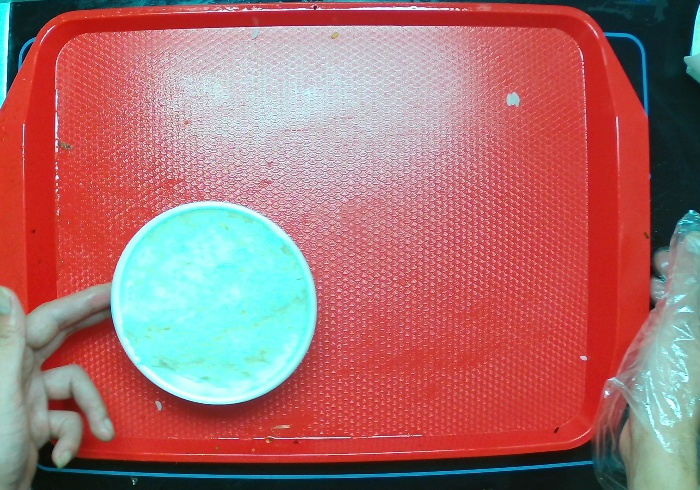YKMZ-Fan_Wan: (104, 189, 316, 408)
